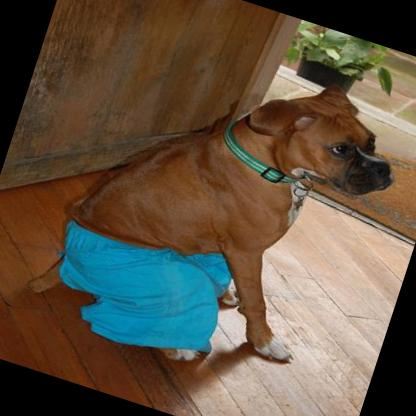boxer: (26, 0, 416, 414)
